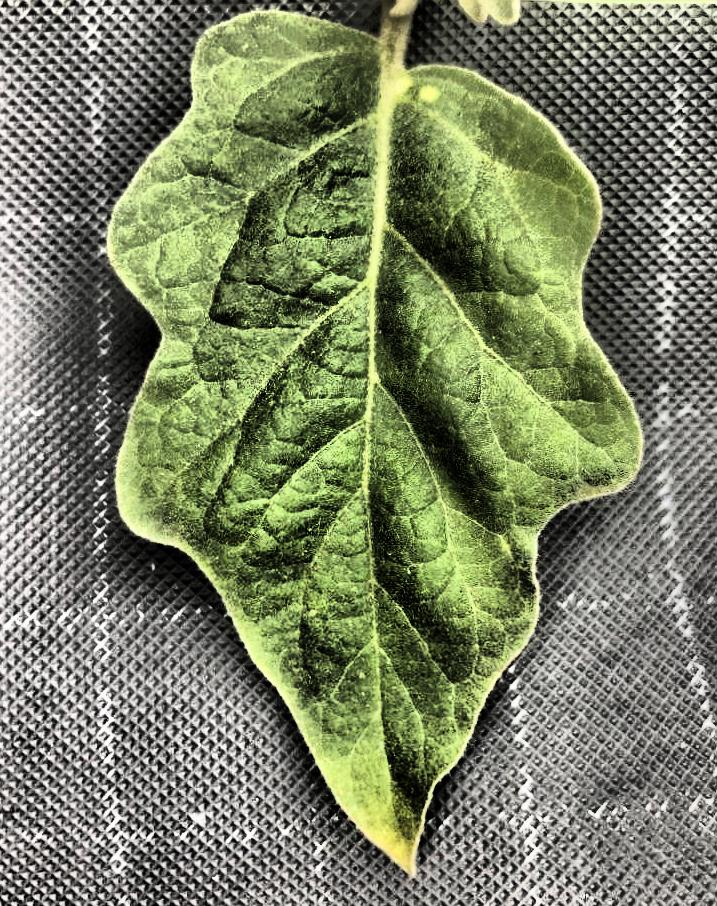HEALTHY: (1, 0, 717, 906)
